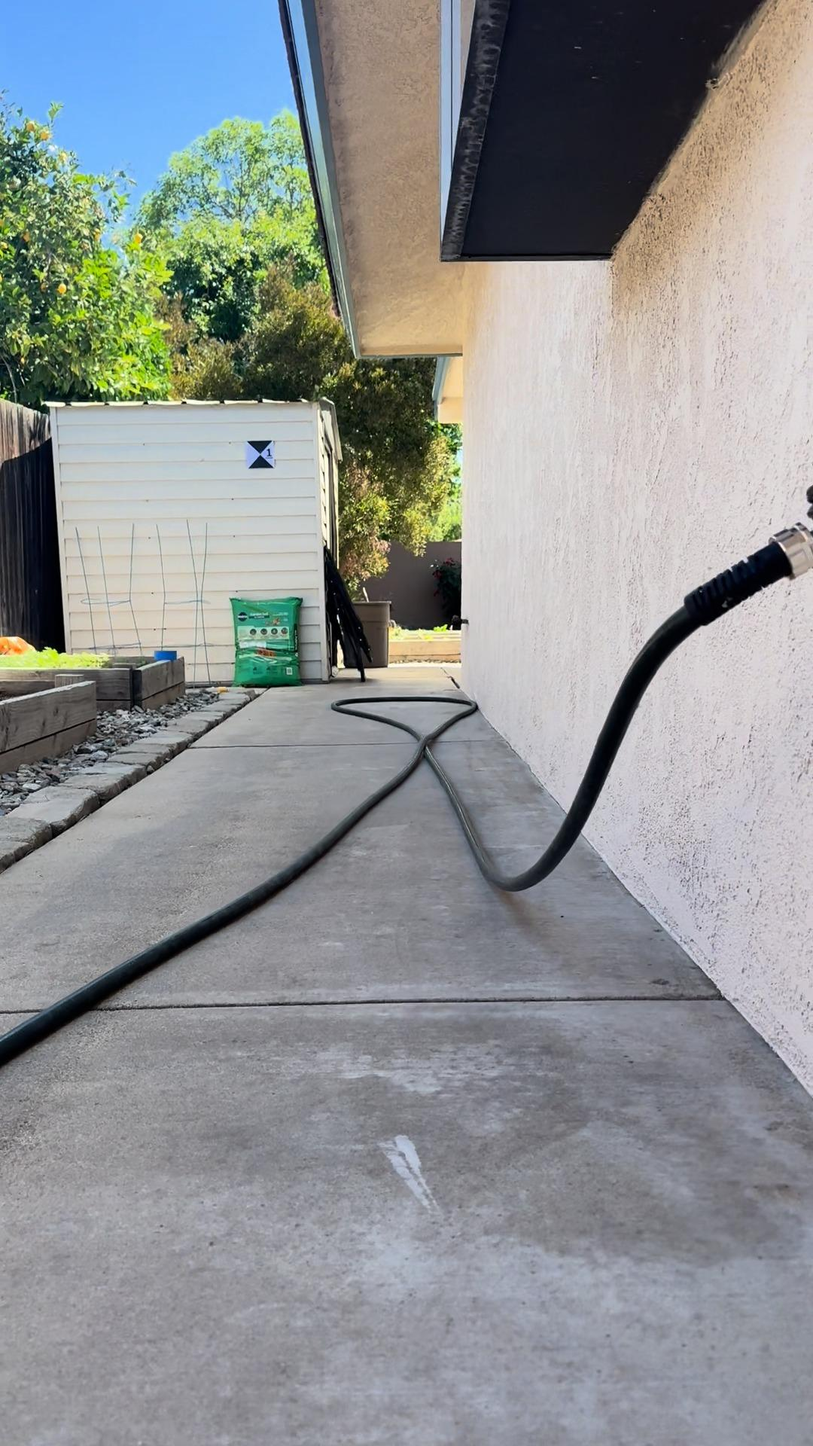target1: (245, 438, 279, 471)
